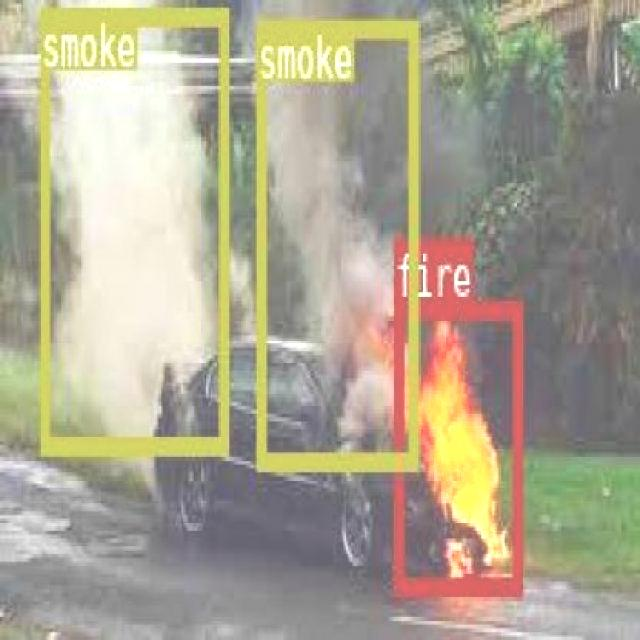fire: (392, 298, 520, 592)
smoke: (38, 8, 226, 452), (256, 19, 416, 467)
